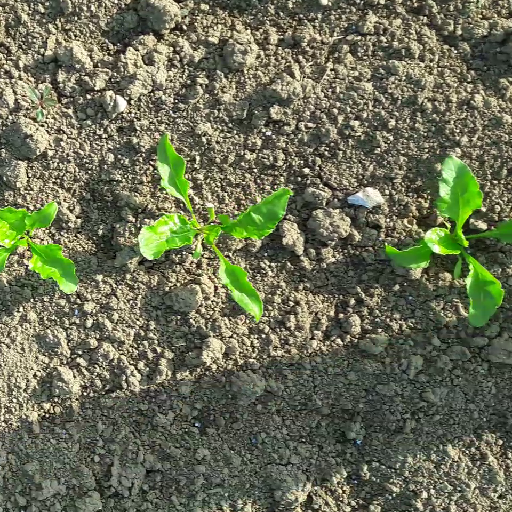sugarbeet: (129, 129, 294, 328), (372, 150, 512, 331), (1, 198, 85, 296)
weed: (19, 82, 64, 123)
